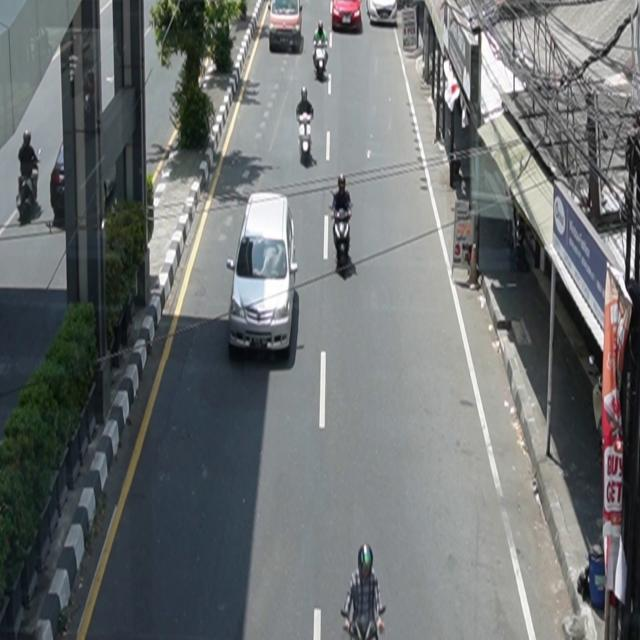car: (227, 192, 299, 356), (269, 1, 304, 54), (331, 1, 362, 32), (367, 1, 398, 26)
